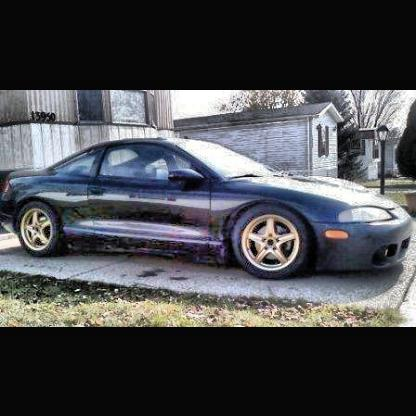Eagle Talon Hatchback 1998: (3, 139, 415, 278)
